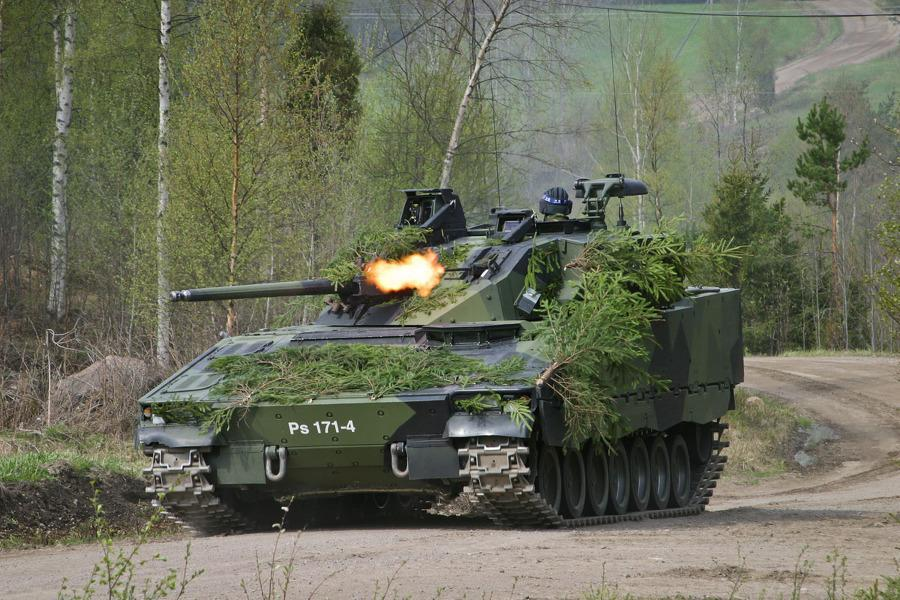MIL_IFV: (136, 175, 753, 544)
